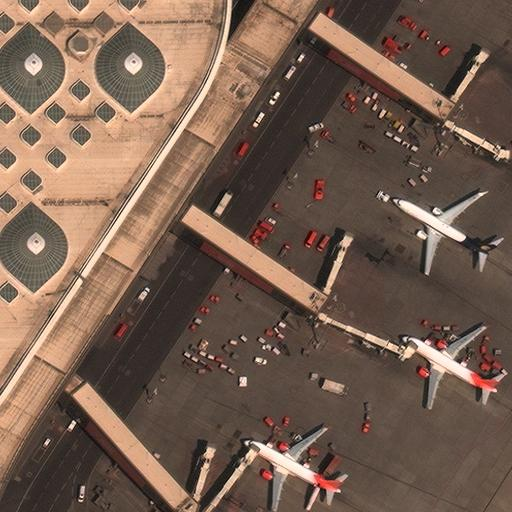Medium Civil Transport: (243, 427, 340, 509), (392, 192, 488, 274), (402, 326, 498, 407)
